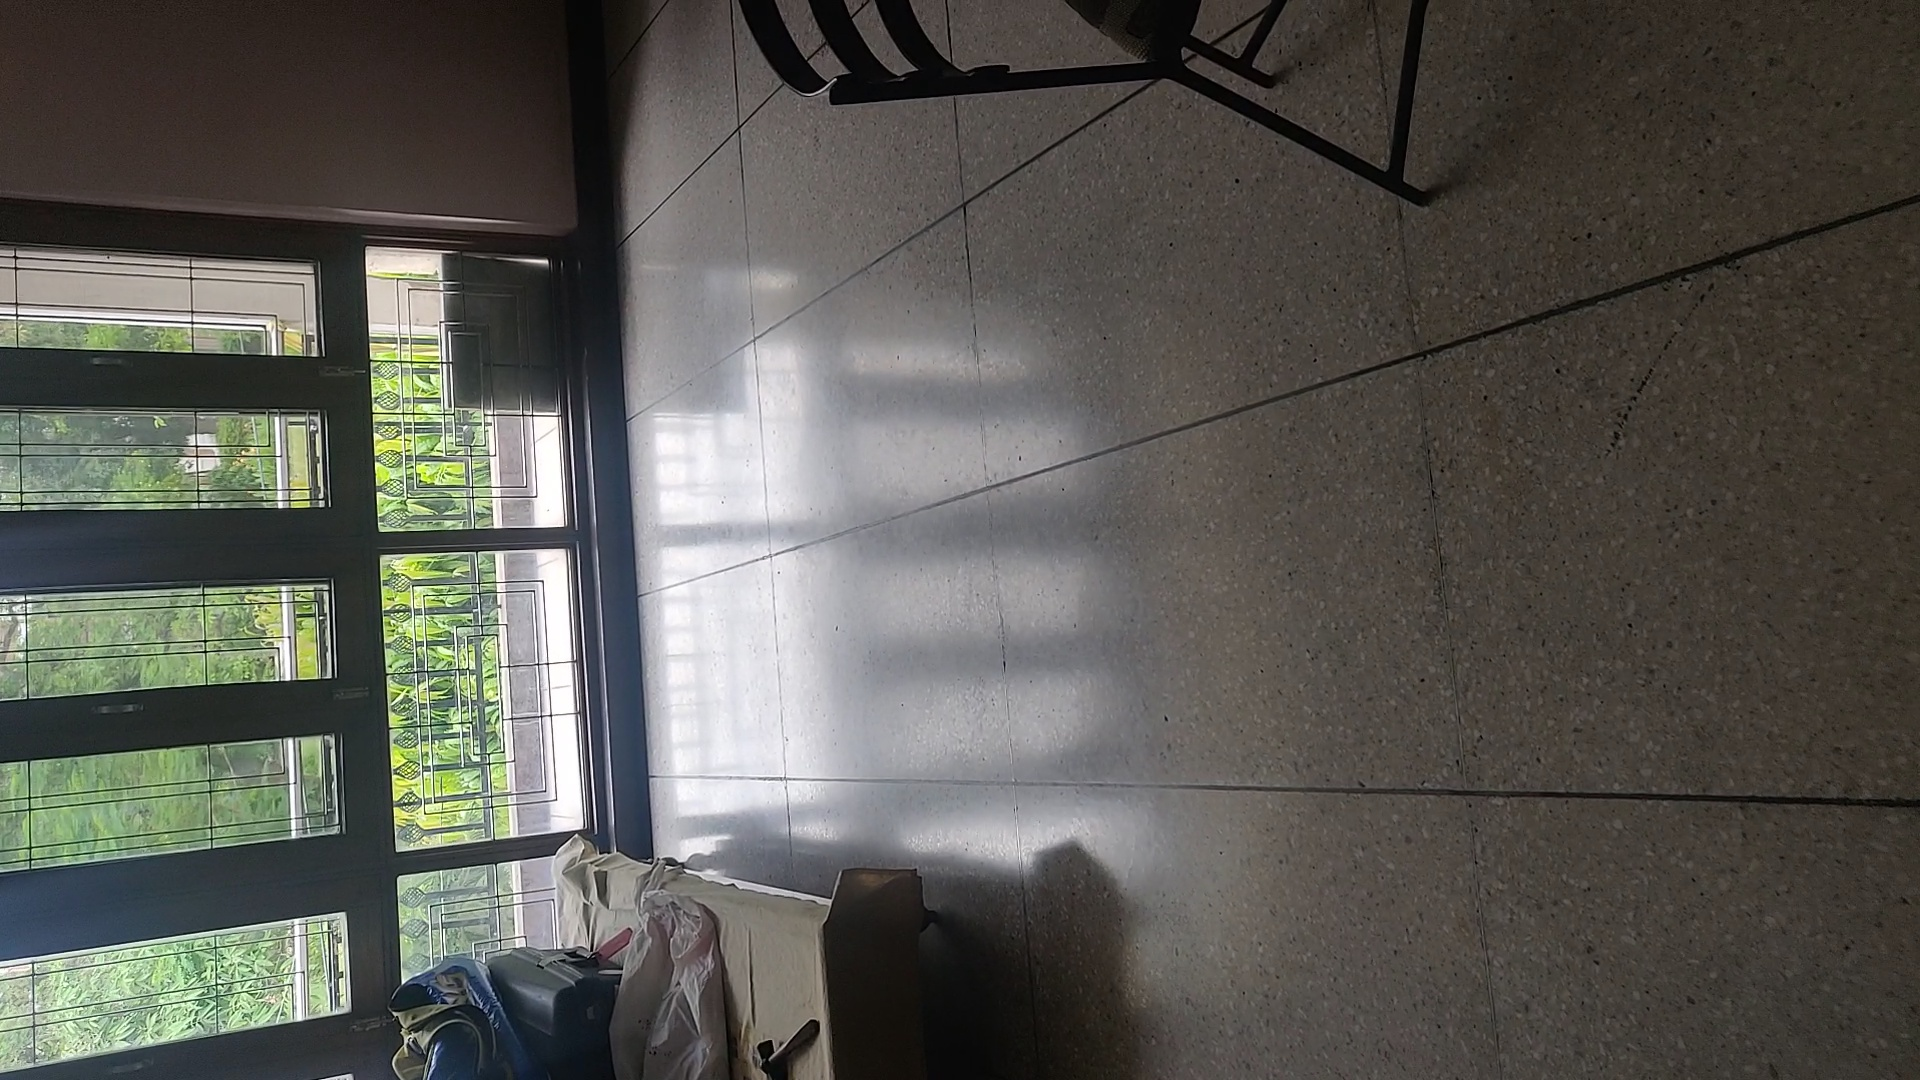hammer: (754, 1011, 822, 1080)
